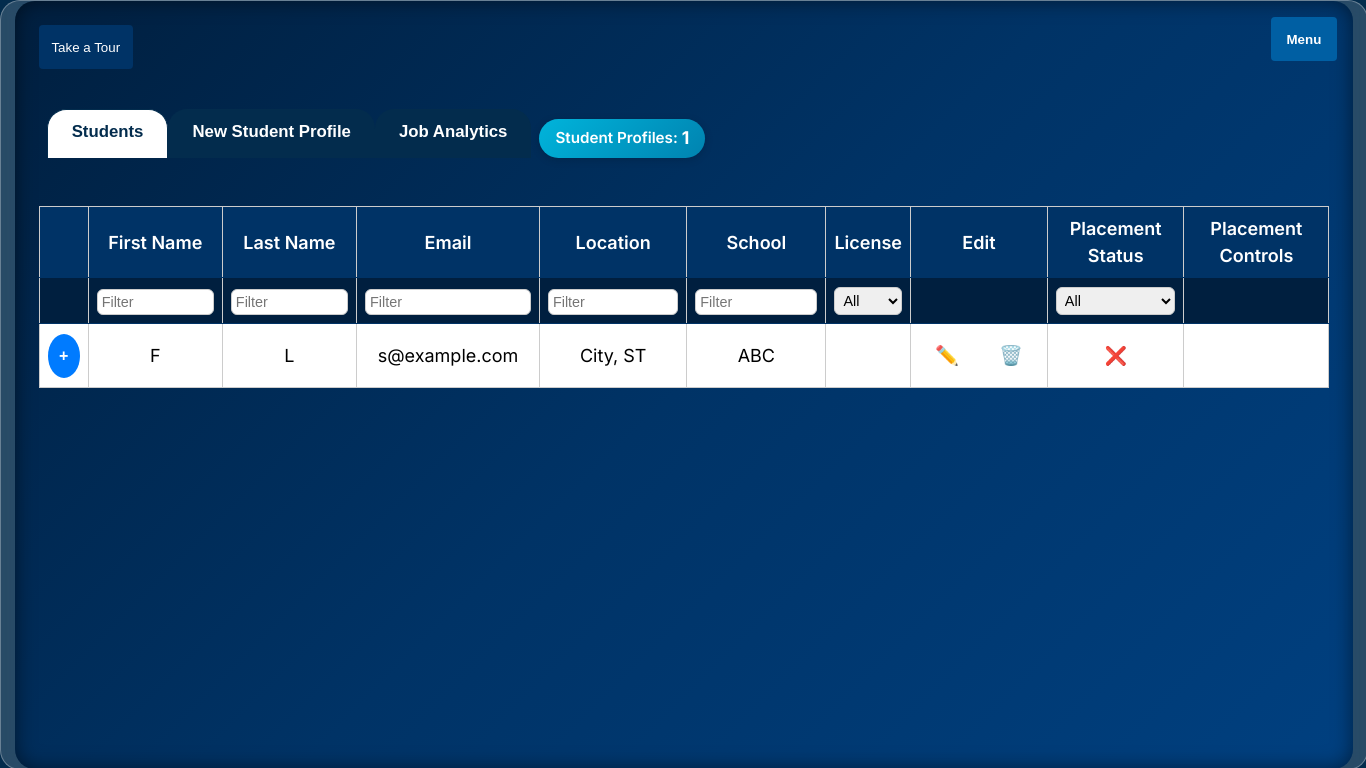
opens notes history modal when View Notes clicked
Click the button titled "Expand". click: (64, 356)
box: [48,334,80,378]
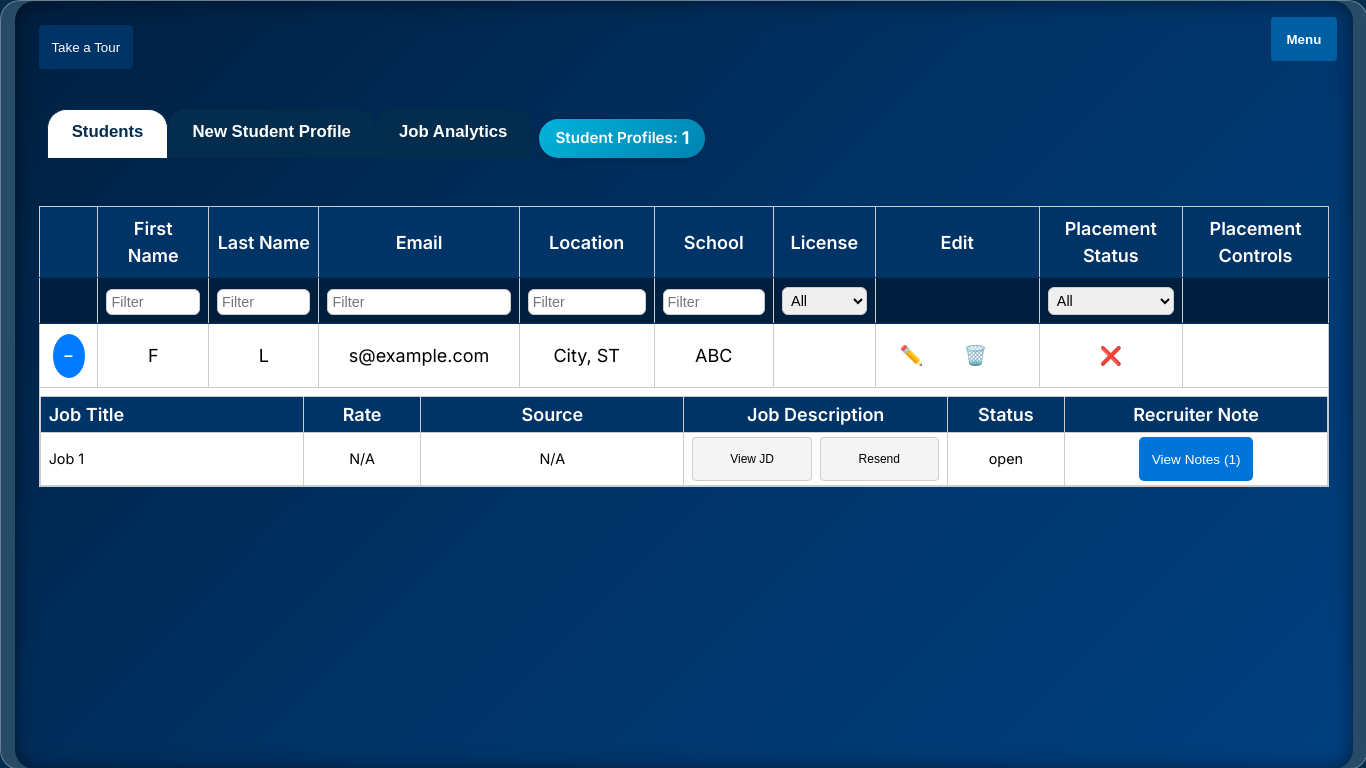
Click the button "View Notes (1)". click: (1196, 459)
box: [1139,437,1253,481]
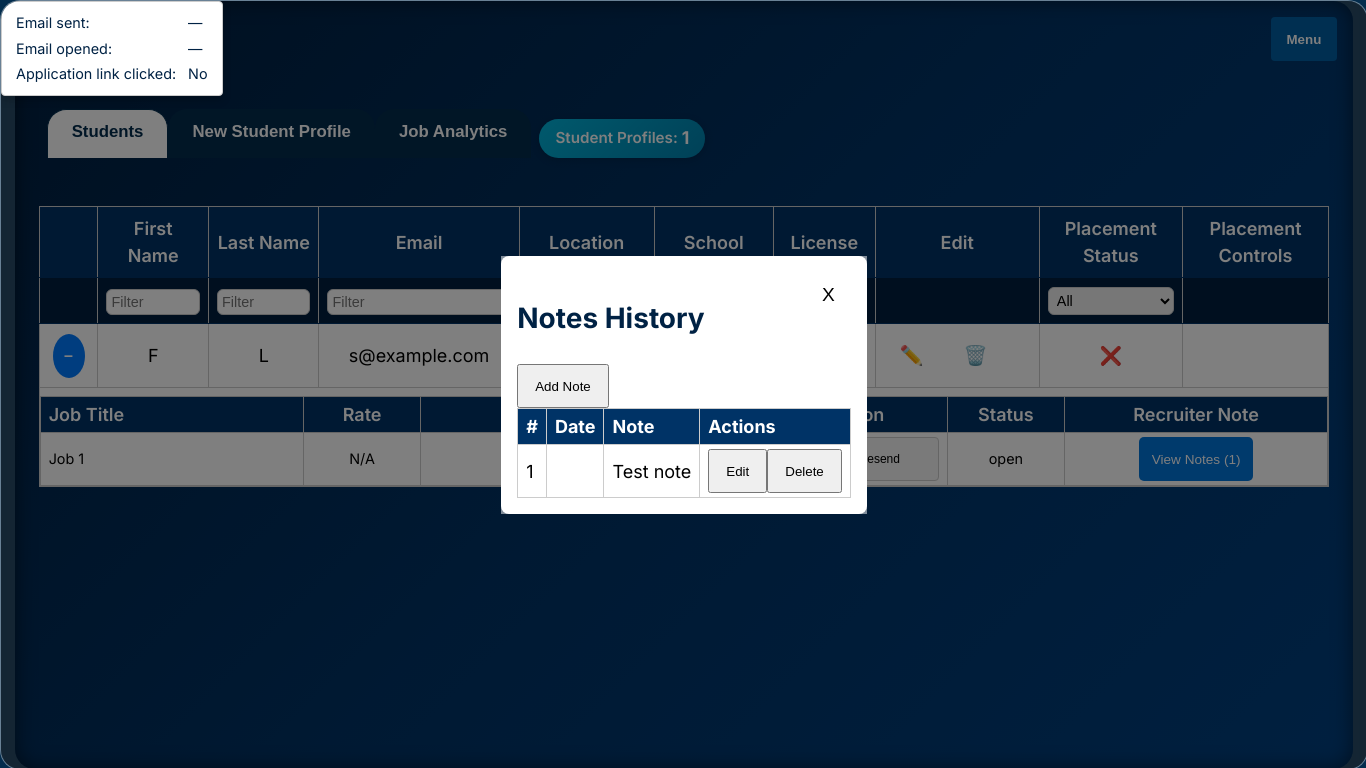
Result: the text "Test note" is shown at [604,445,700,498]
Click the button "X". click: (828, 295)
box: [806,272,851,318]
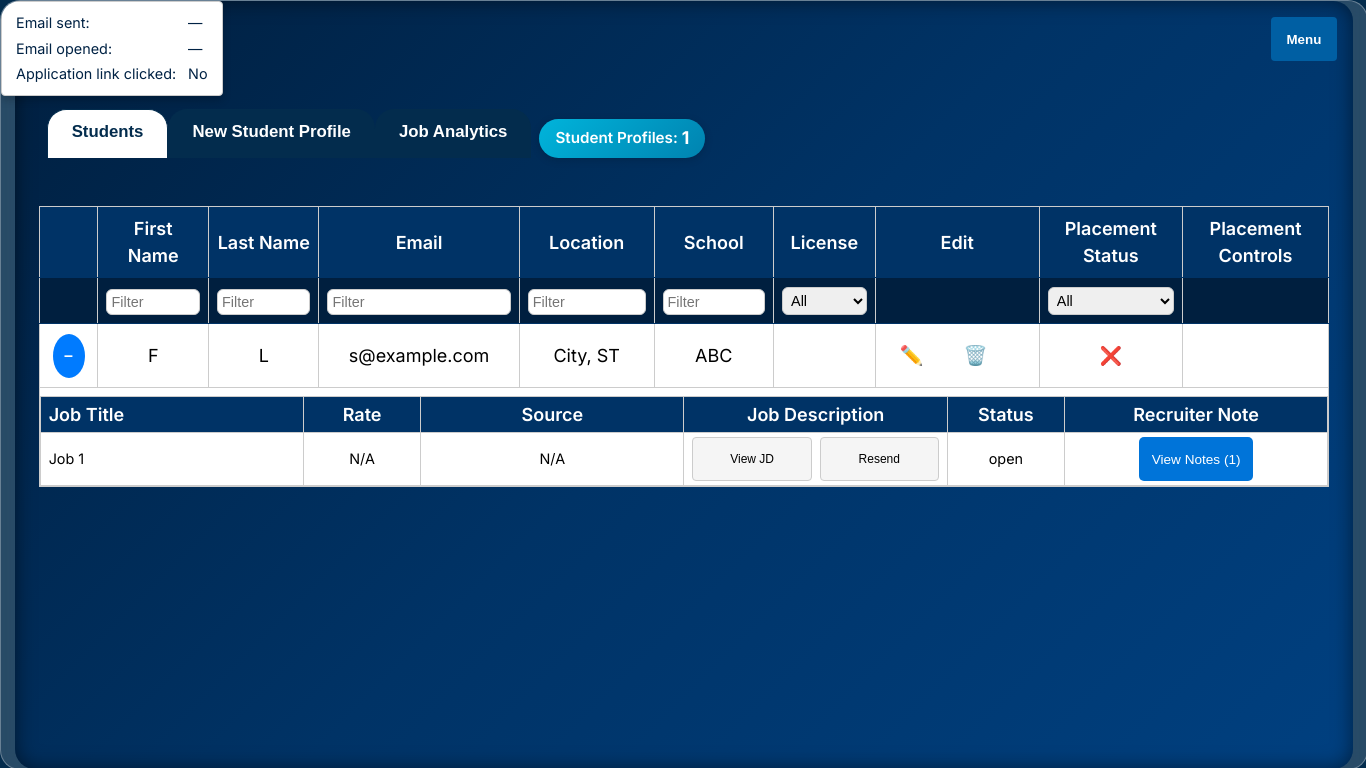
Result: the text "Test note" is gone
